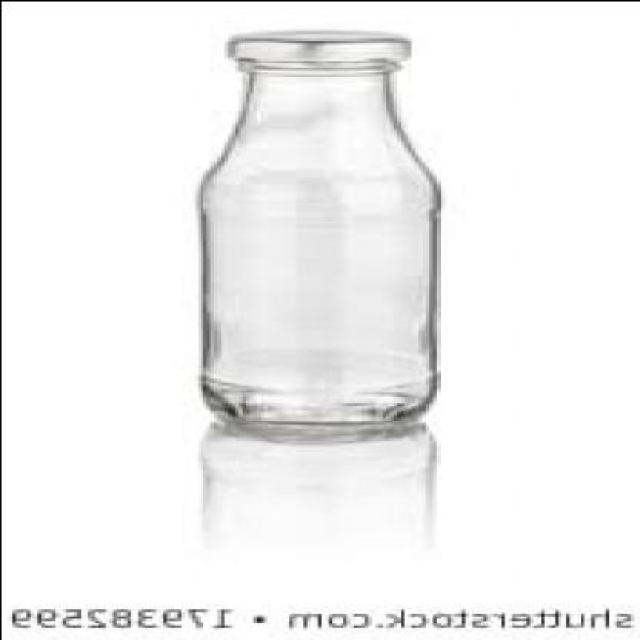glass: (202, 30, 443, 428)
metal: (234, 31, 414, 55)
